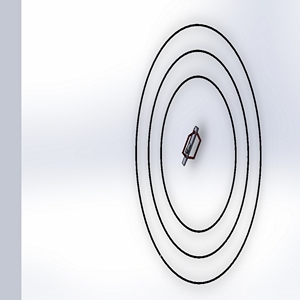circle: (130, 18, 267, 288)
submarine: (177, 120, 207, 169)
